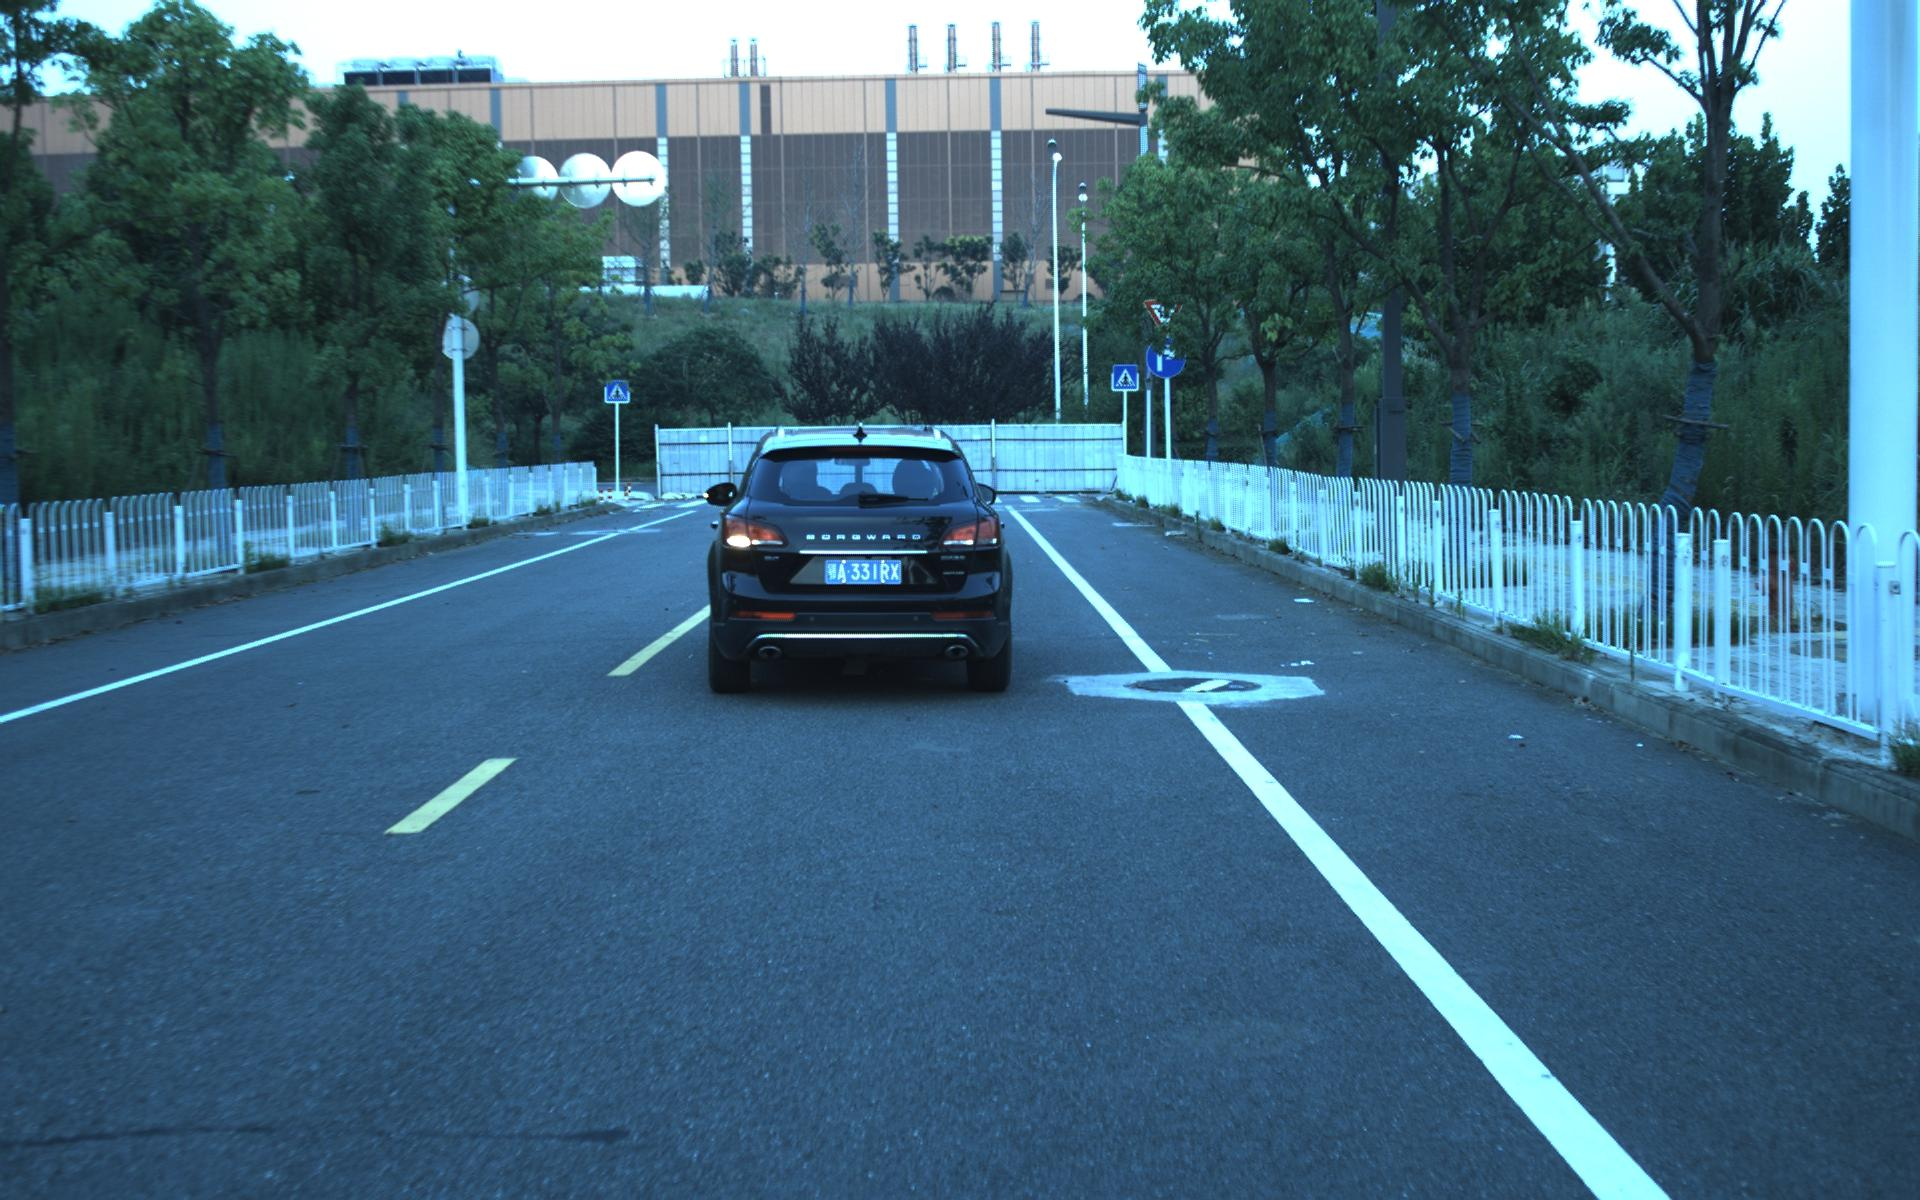Car: (702, 418, 1016, 700)
